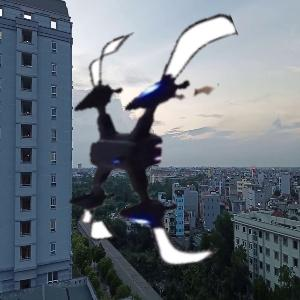drone: (27, 29, 277, 279)
